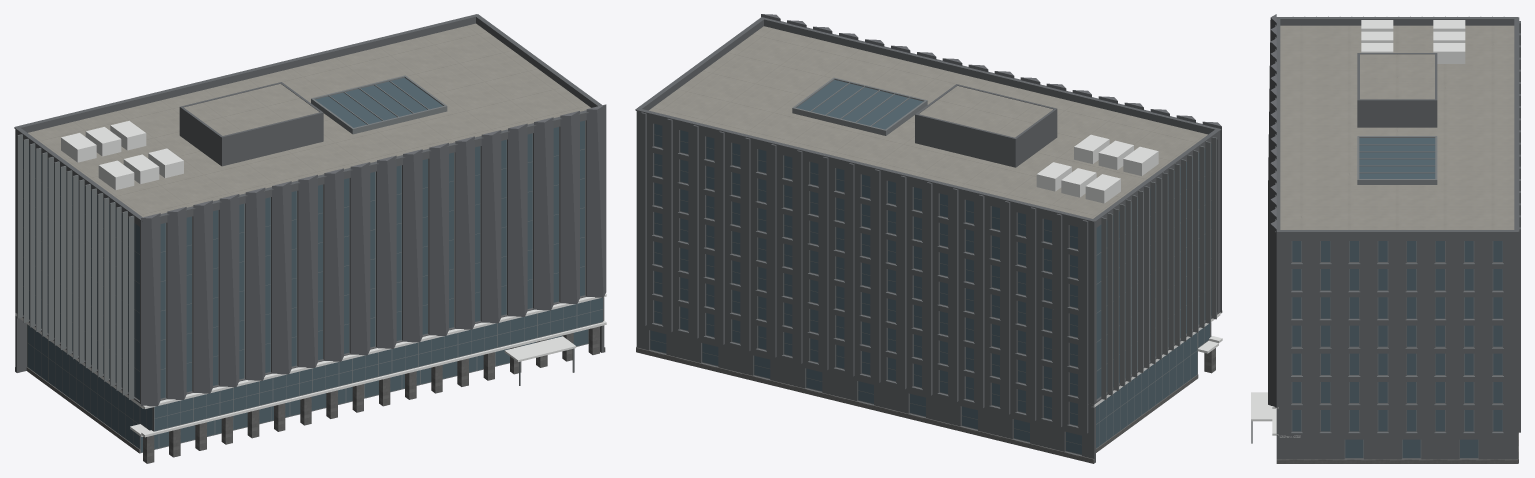
The picture shows the model from 3 angles, left to right: view 1: azimuth 30°, elevation 25°; view 2: azimuth 150°, elevation 25°; view 3: azimuth 270°, elevation 25°; orthographic projection. The views are drawn at different scales.
Visible parts, largest first — view 1: newEngineering__fin, newEngineering__glass, newEngineering__roof, newEngineering__frame, newEngineering__panel, newEngineering__white, newEngineering__pier; view 2: newEngineering__panel, newEngineering__glass, newEngineering__roof, newEngineering__frame, newEngineering__white, newEngineering__pier, newEngineering__fin; view 3: newEngineering__panel, newEngineering__roof, newEngineering__glass, newEngineering__frame, newEngineering__fin, newEngineering__white, newEngineering__pier.
Part boxes in pixels (x1=…): newEngineering__fin: x1=141, y1=104, x2=606, y2=406; newEngineering__glass: x1=23, y1=77, x2=602, y2=452; newEngineering__roof: x1=28, y1=23, x2=590, y2=217; newEngineering__frame: x1=17, y1=75, x2=603, y2=453; newEngineering__panel: x1=14, y1=14, x2=605, y2=431; newEngineering__white: x1=15, y1=120, x2=606, y2=437; newEngineering__pier: x1=15, y1=326, x2=605, y2=463; newEngineering__panel: x1=635, y1=17, x2=1221, y2=463; newEngineering__glass: x1=650, y1=80, x2=1211, y2=454; newEngineering__roof: x1=649, y1=26, x2=1207, y2=218; newEngineering__frame: x1=650, y1=77, x2=1216, y2=455; newEngineering__white: x1=1036, y1=134, x2=1222, y2=407; newEngineering__pier: x1=636, y1=347, x2=1215, y2=463; newEngineering__fin: x1=761, y1=14, x2=1221, y2=312; newEngineering__panel: x1=1275, y1=17, x2=1520, y2=459; newEngineering__roof: x1=1280, y1=25, x2=1514, y2=229; newEngineering__glass: x1=1292, y1=138, x2=1502, y2=457; newEngineering__frame: x1=1251, y1=16, x2=1504, y2=458; newEngineering__fin: x1=1268, y1=14, x2=1276, y2=407; newEngineering__white: x1=1251, y1=20, x2=1465, y2=437; newEngineering__pier: x1=1276, y1=432, x2=1518, y2=463.
Size of the model in its own units: 64.37 by 35 by 33.81.
7 materials, 2 textured.
